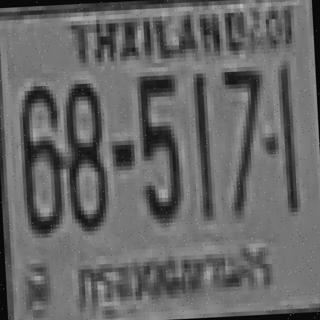N05: (136, 71, 182, 220), (137, 73, 180, 176), (137, 73, 179, 159)
N06: (19, 81, 68, 230)
N07: (221, 66, 266, 207), (221, 68, 264, 163)
N08: (63, 79, 108, 228)
P04: (67, 236, 283, 320)
